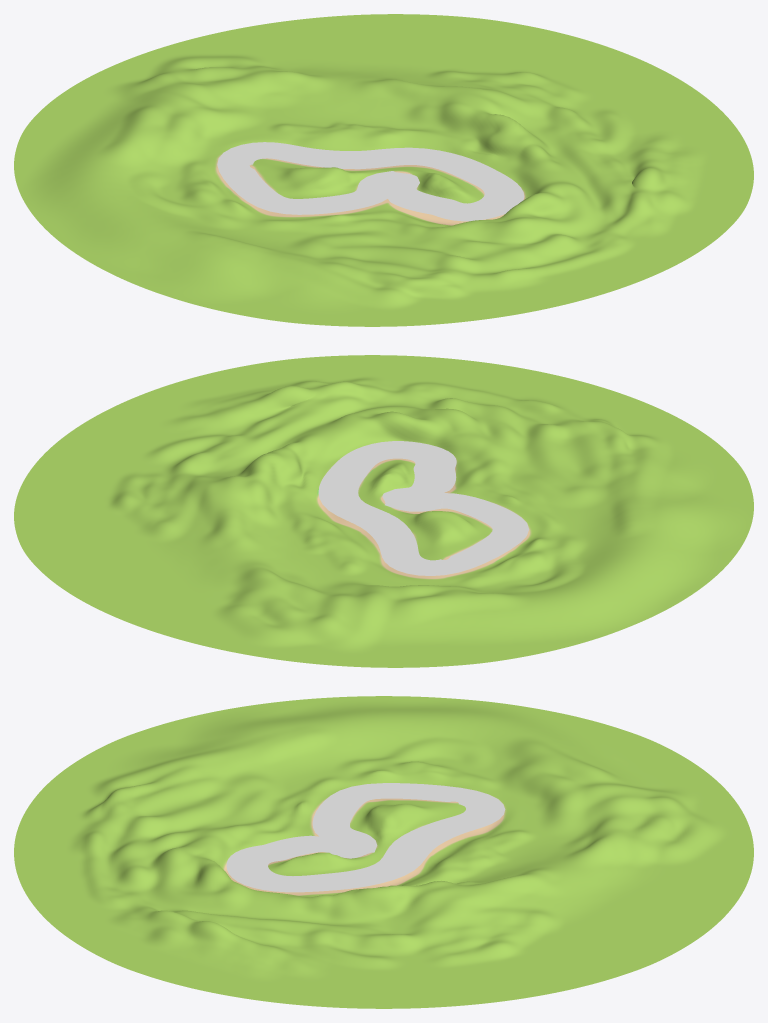
File: RacingTrack .fbx
3 views of the same model, one above another, from view 1: azimuth 30°, elevation 25°; view 2: azimuth 150°, elevation 25°; view 3: azimuth 270°, elevation 25° (orthographic).
Visible parts, largest first — view 1: TrackCosmetic, Plane; view 2: TrackCosmetic, Plane; view 3: TrackCosmetic, Plane.
Part boxes in pixels (box(x1,y1,x2,y2)): TrackCosmetic: box(14, 14, 753, 326); Plane: box(217, 142, 524, 221); TrackCosmetic: box(14, 355, 753, 667); Plane: box(318, 441, 528, 575); TrackCosmetic: box(14, 696, 753, 1008); Plane: box(226, 783, 505, 892).
Size of what is drawn, in the model's own units: 130874 by 5840 by 130874.
